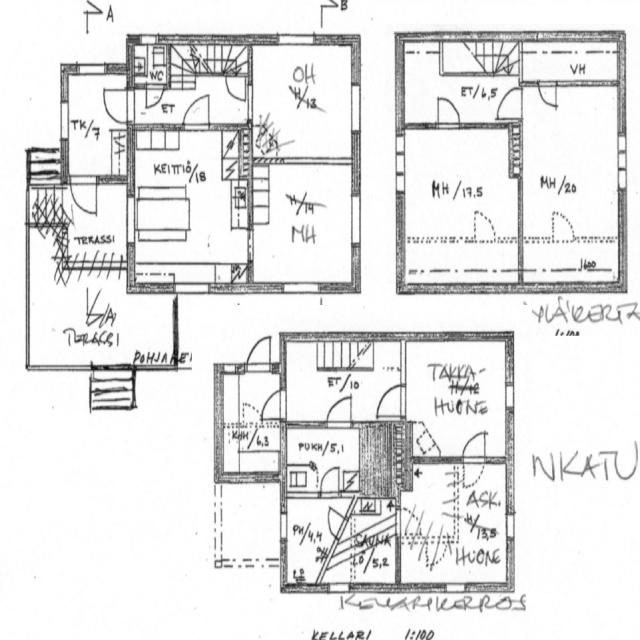door: (75, 85, 133, 154), (322, 392, 356, 430), (69, 175, 99, 218), (374, 381, 407, 420), (181, 91, 213, 131), (458, 428, 489, 467), (245, 333, 274, 373), (494, 84, 525, 121), (102, 86, 131, 125), (434, 93, 462, 130), (470, 208, 499, 242), (260, 386, 286, 421), (550, 208, 576, 242), (223, 70, 248, 104), (318, 464, 342, 496), (537, 79, 560, 110), (144, 82, 165, 110)
window: (282, 152, 351, 168), (614, 132, 630, 196), (348, 81, 363, 134), (348, 192, 362, 248), (276, 30, 318, 48), (280, 279, 322, 297), (394, 143, 407, 200), (355, 579, 391, 595), (58, 99, 70, 142), (503, 374, 516, 413), (76, 60, 107, 75), (324, 580, 352, 596), (442, 579, 468, 594), (278, 510, 289, 543)
zone: (132, 128, 249, 288), (516, 82, 623, 240), (399, 125, 519, 247), (24, 270, 176, 366), (399, 458, 510, 588), (250, 161, 357, 288), (405, 338, 510, 458), (251, 42, 356, 161), (64, 70, 130, 178), (220, 371, 283, 477), (61, 180, 129, 270), (402, 236, 523, 286), (283, 424, 363, 496), (218, 479, 284, 564), (519, 235, 623, 288), (283, 496, 342, 587), (118, 289, 176, 367), (520, 40, 620, 84), (360, 419, 410, 502), (346, 509, 398, 584), (130, 42, 168, 85), (69, 174, 100, 221)
